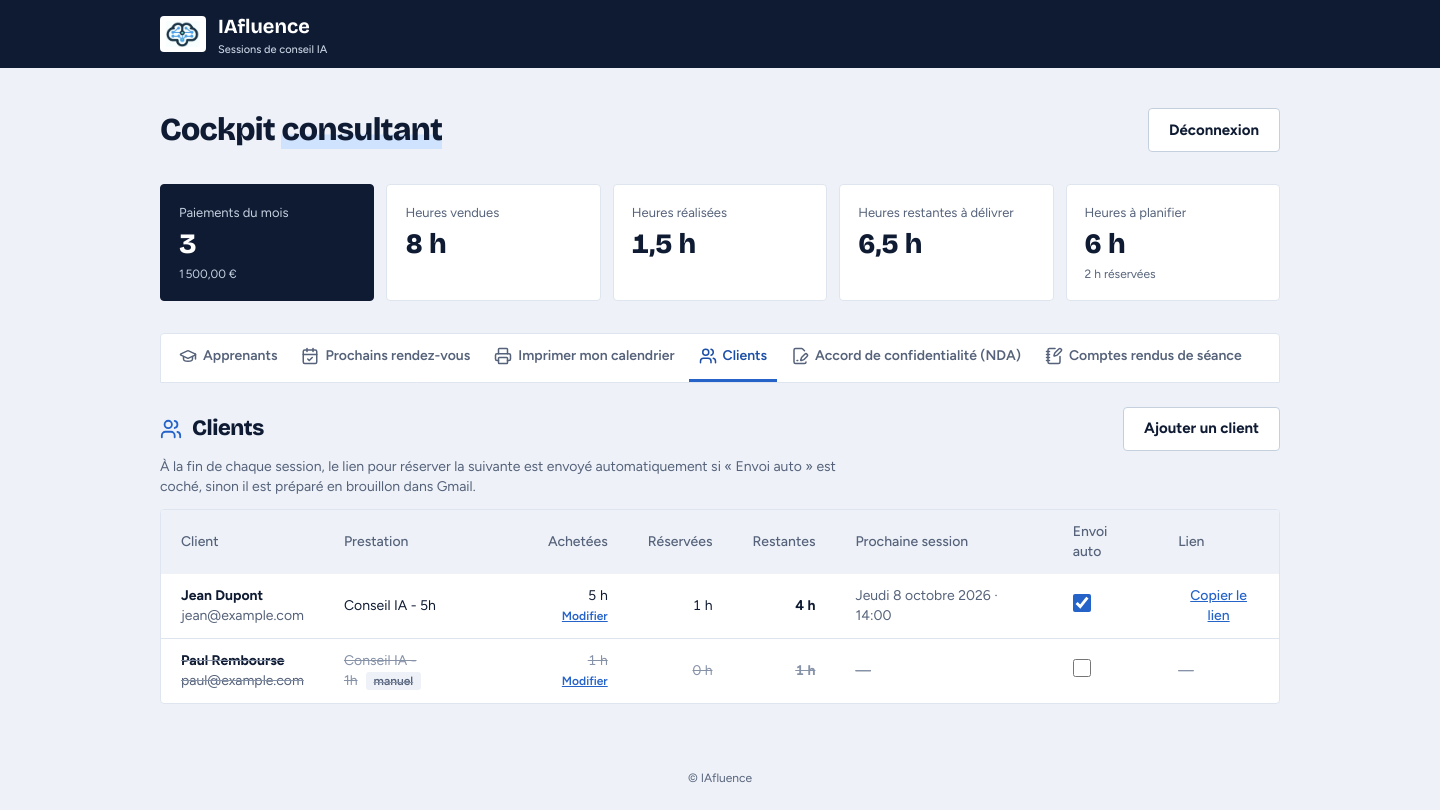
Test: Cockpit › adds a client met elsewhere with only a name, an email and how they came
Click the button "Ajouter un client" at (1201, 428), box x1=1123 y1=406 x2=1280 y2=450
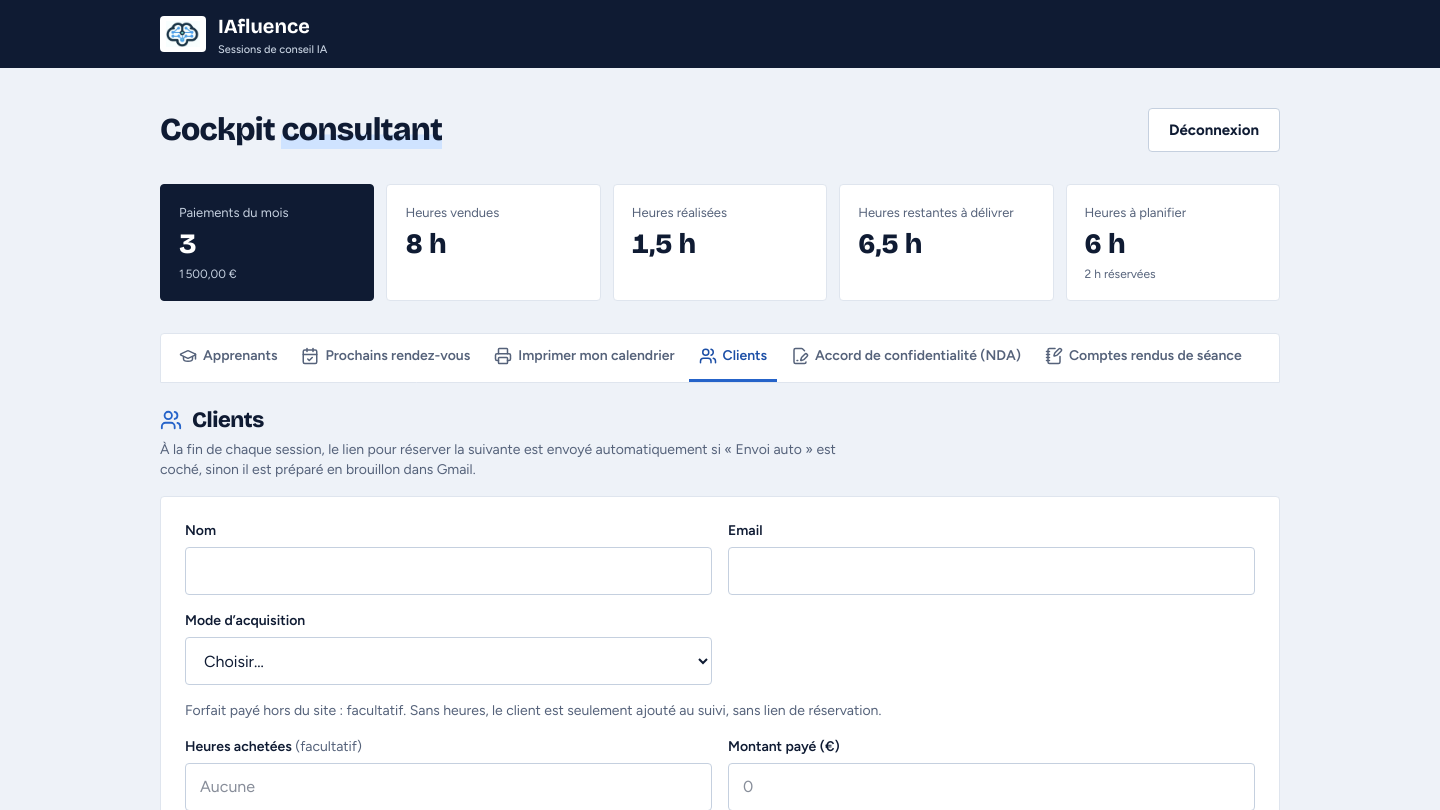
Type "Ange" into the field labelled "Nom" at (448, 571), box x1=185 y1=547 x2=712 y2=595
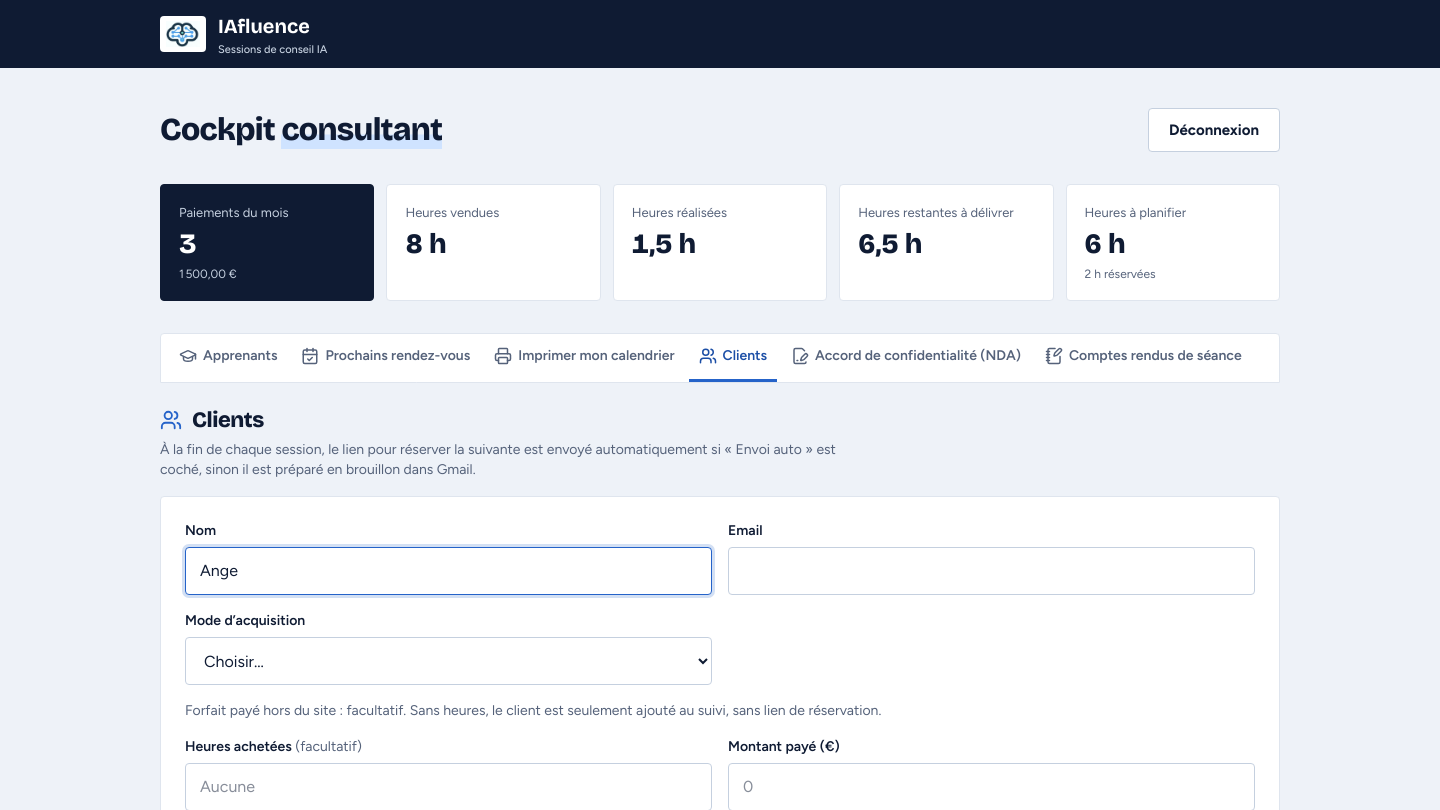
Type "ange@x.fr" into the field labelled "Email" at (992, 571), box x1=728 y1=547 x2=1255 y2=595
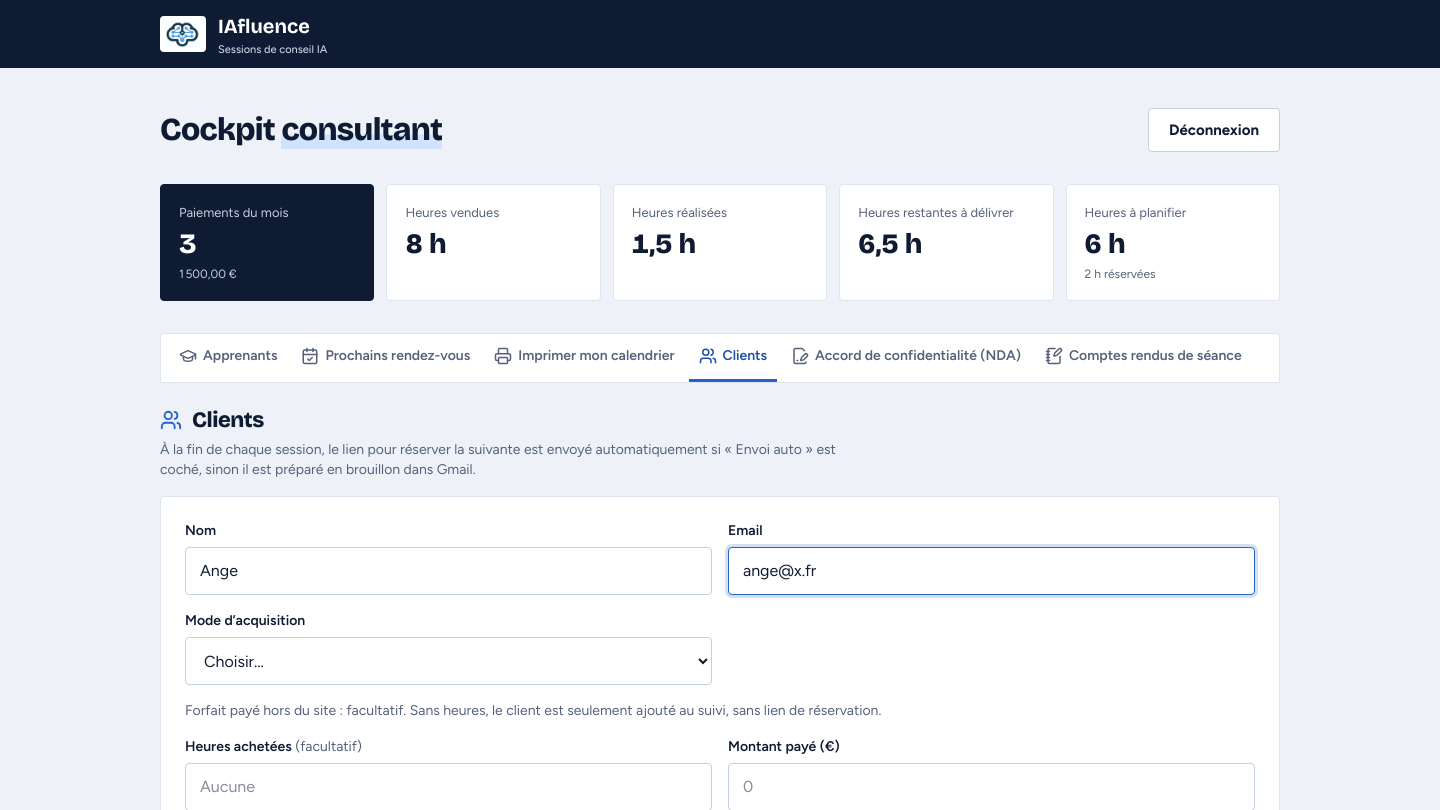
Select "Autre" in the dropdown labelled "Mode d’acquisition" at (448, 661), box x1=185 y1=637 x2=712 y2=685
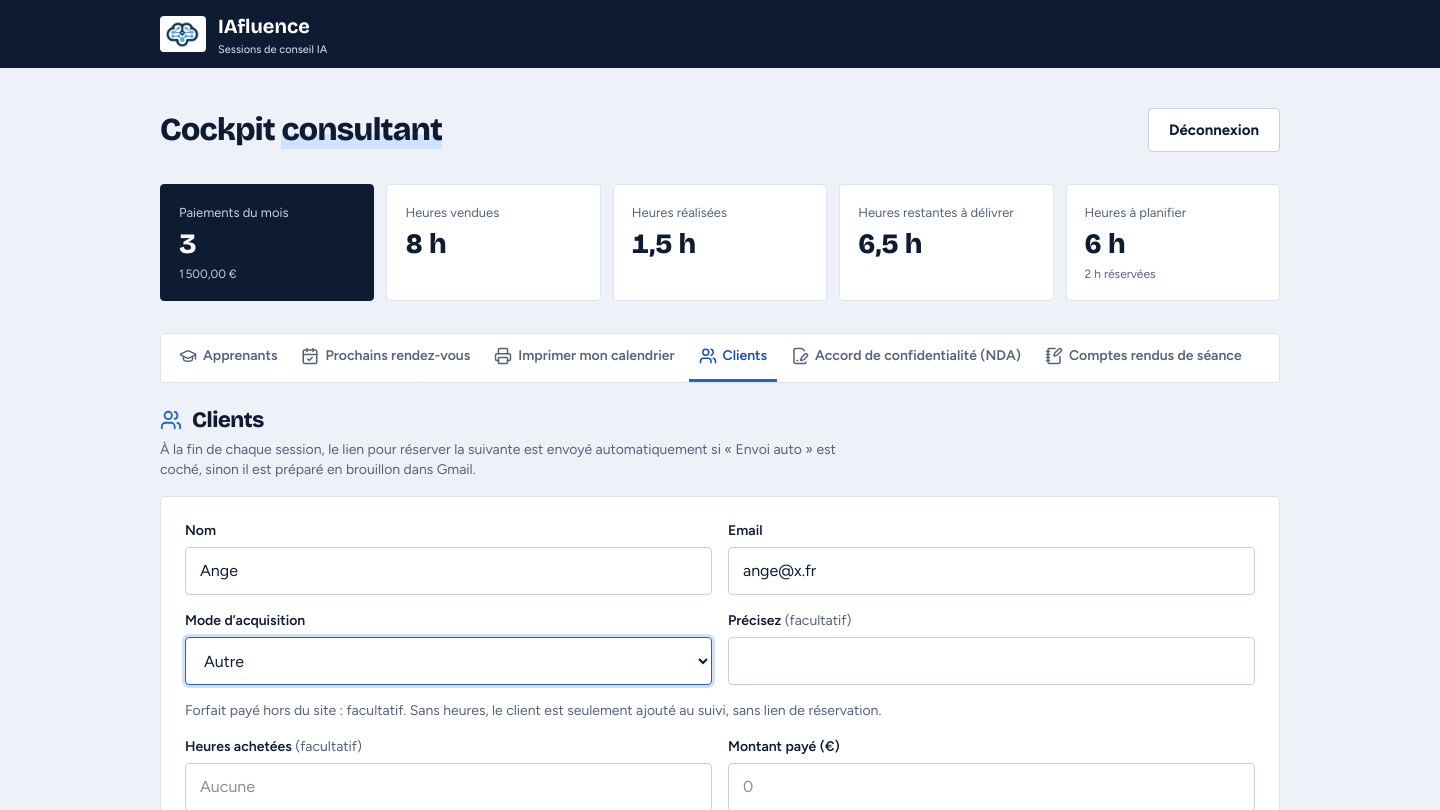
Type "Salon" into the field labelled "Précisez (facultatif)" at (992, 661), box x1=728 y1=637 x2=1255 y2=685
(page scrolled)
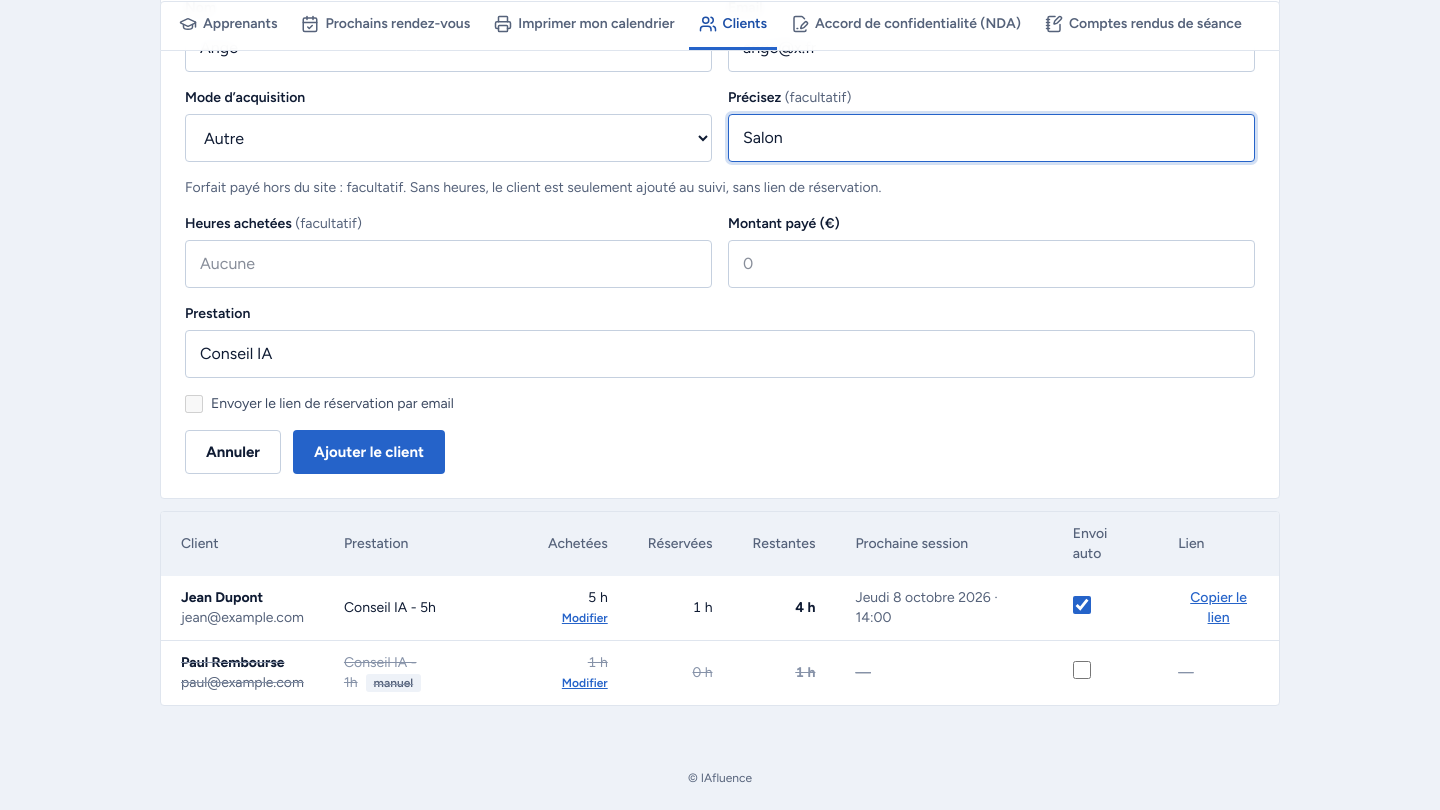
Click the button "Ajouter le client" at (369, 452), box x1=293 y1=430 x2=445 y2=474
(page scrolled)
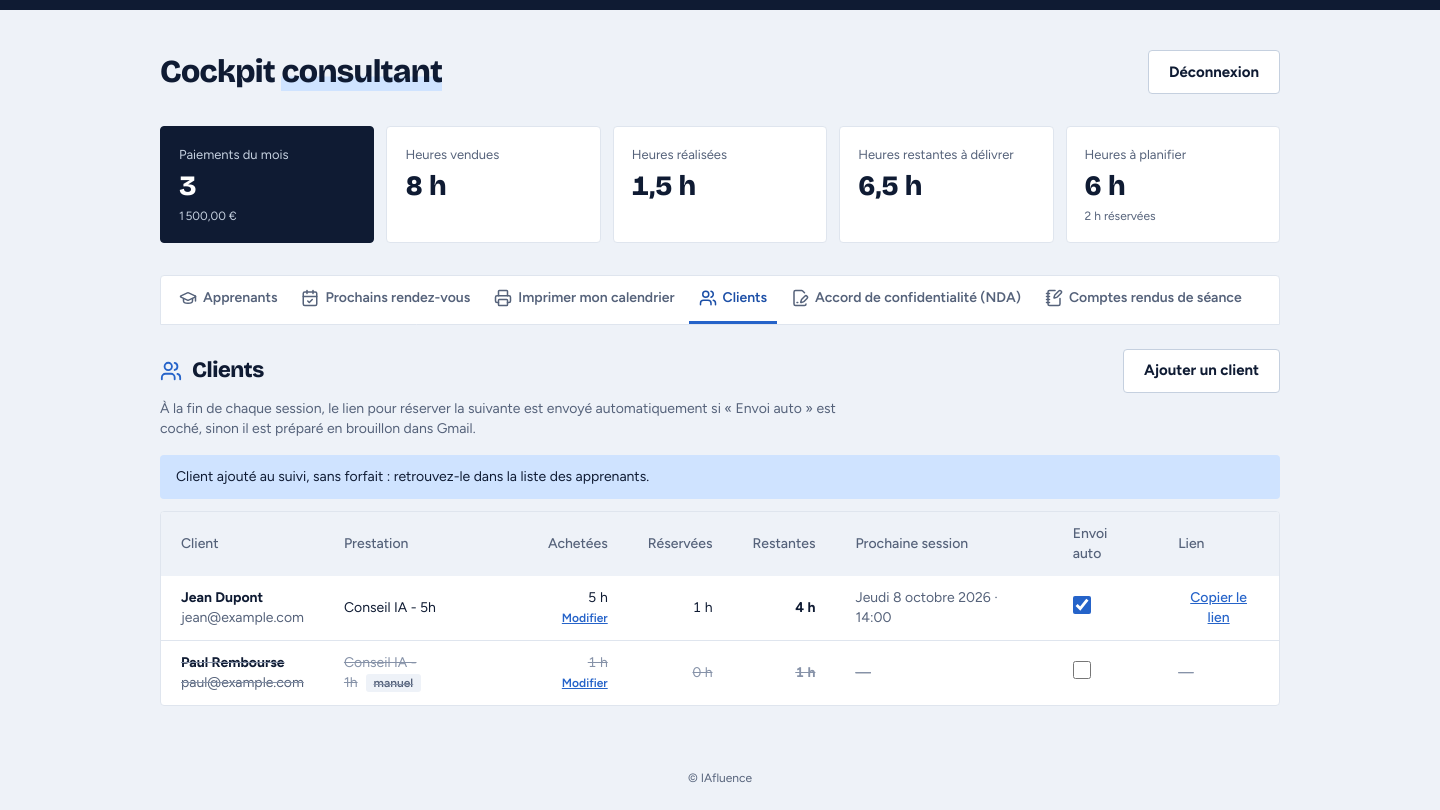
expect the message shows "Client ajouté au suivi, sans forfait": met, box x1=176 y1=468 x2=649 y2=484
